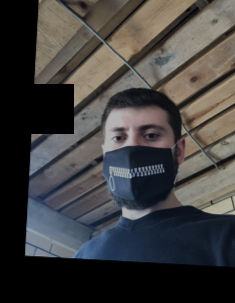with_mask: (103, 116, 175, 211)
